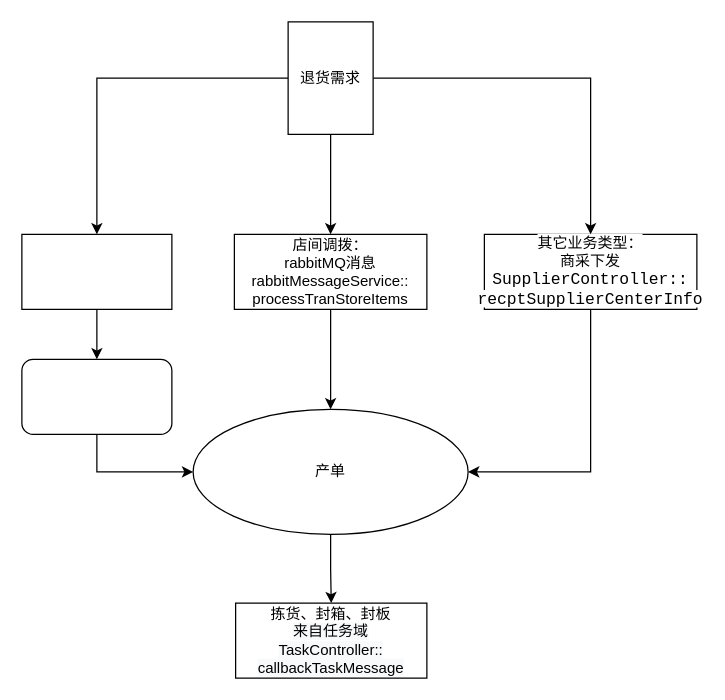
Image size: 725x700. Some labels were removed from this diagram. Each missing label, with the box of its shape:
主动发退： 来自任务域 TaskController:: callbackTaskMessage: (21, 233, 172, 309)
拣货的同时产单: (21, 358, 172, 434)
